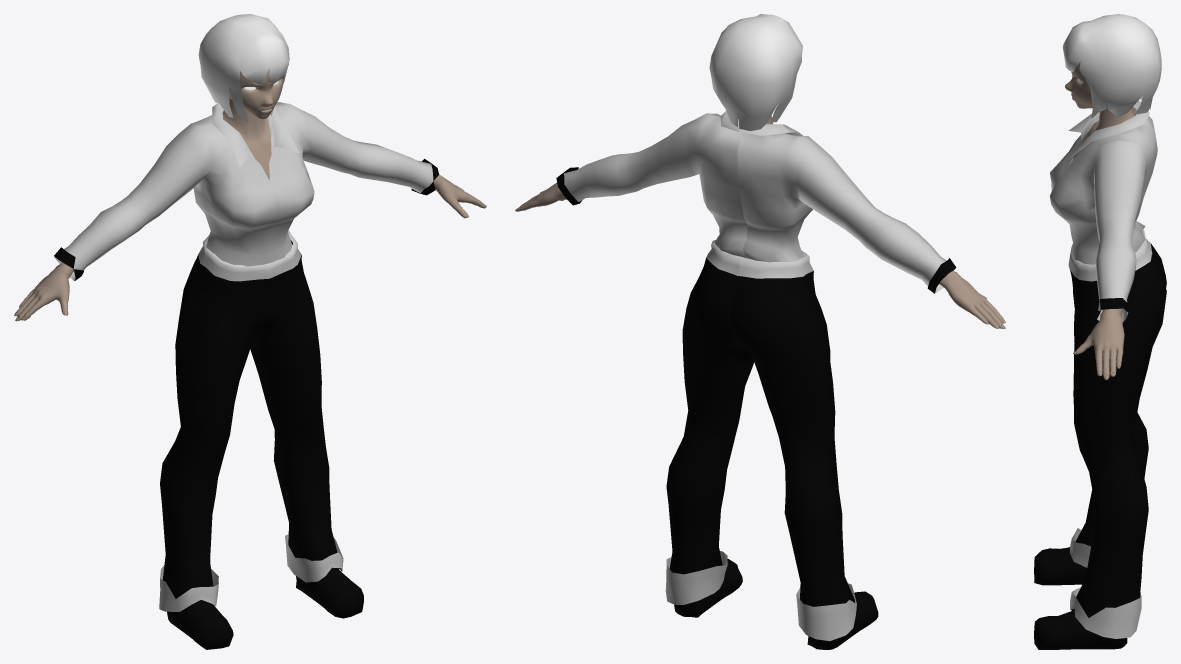
Rendered from vaxcine.fbx.
3 renders of one model, left to right at view 1: azimuth 30°, elevation 25°; view 2: azimuth 150°, elevation 25°; view 3: azimuth 270°, elevation 25°, orthographic. The views are drawn at different scales.
Visible parts, largest first — view 1: clothes, hair, body; view 2: clothes, hair, body; view 3: clothes, hair, body.
Boxes of the visible parts, x1=… form: clothes: x1=54, y1=102, x2=438, y2=649; hair: x1=198, y1=14, x2=289, y2=123; body: x1=14, y1=68, x2=486, y2=321; clothes: x1=556, y1=111, x2=956, y2=649; hair: x1=709, y1=14, x2=802, y2=130; body: x1=515, y1=113, x2=1005, y2=328; clothes: x1=1034, y1=100, x2=1166, y2=649; hair: x1=1063, y1=14, x2=1161, y2=118; body: x1=1065, y1=61, x2=1136, y2=379.
Bounding box in the file's own units: 25.11 × 29.76 × 6.05.
